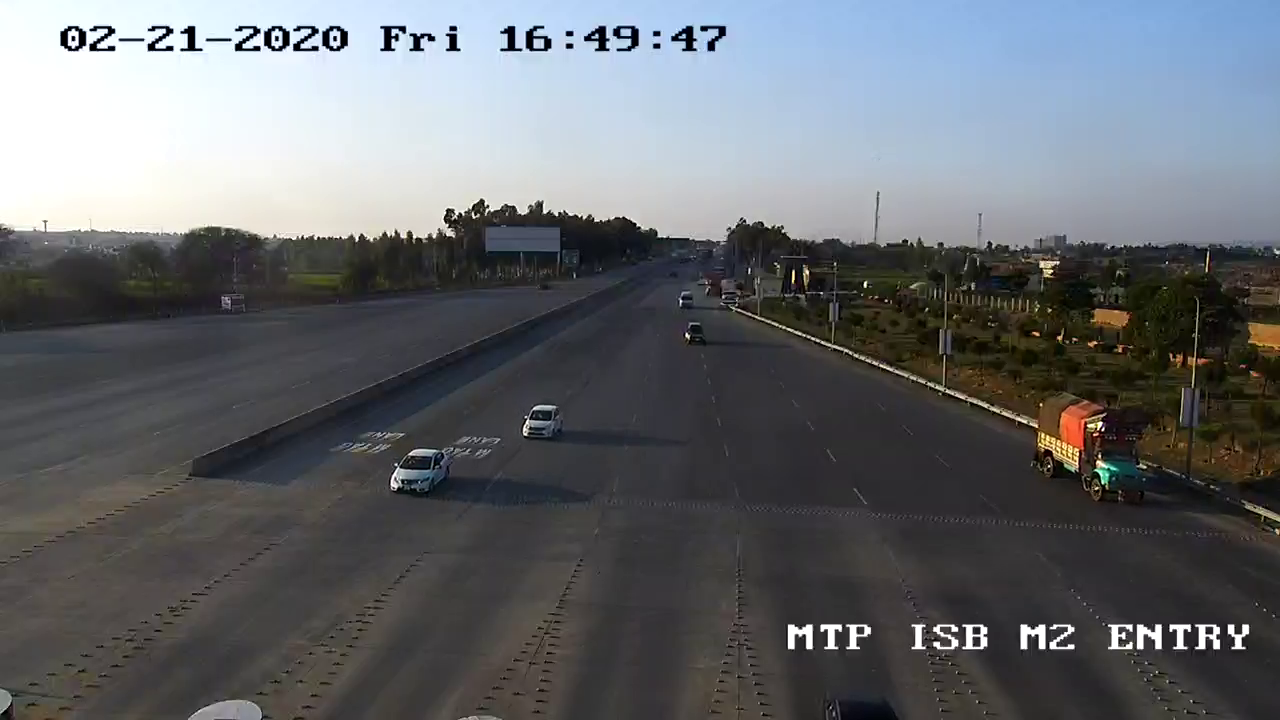f1: (383, 441, 454, 508), (514, 394, 571, 451)
f5: (1024, 390, 1165, 514)
